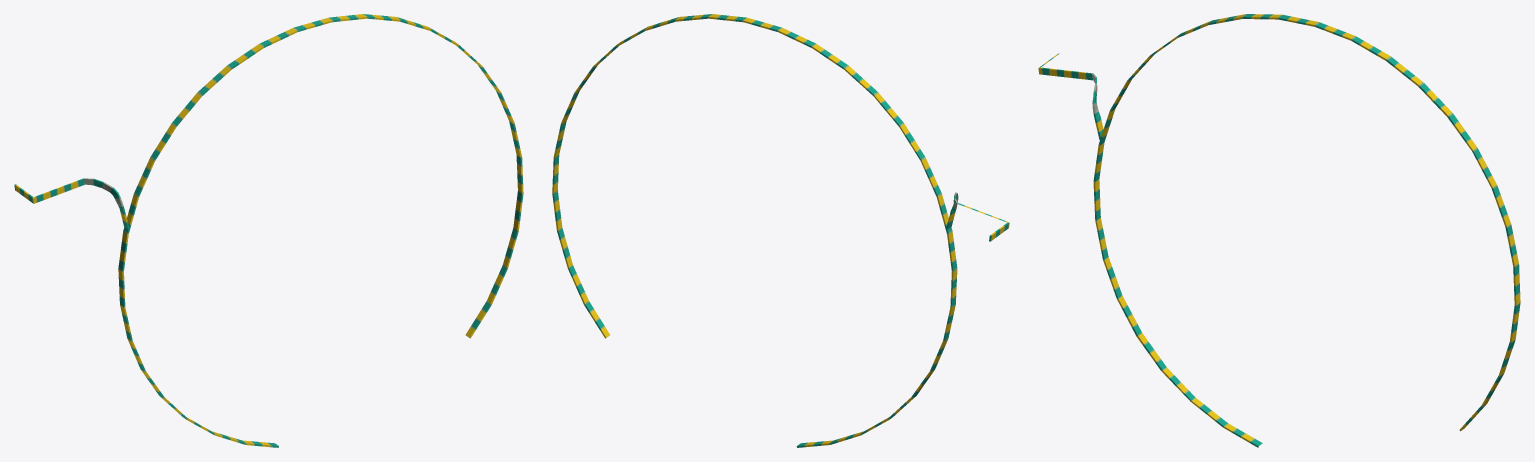
Rendered from jx001-geode.glb.
The picture shows the model from 3 angles, left to right: view 1: azimuth 30°, elevation 25°; view 2: azimuth 150°, elevation 25°; view 3: azimuth 330°, elevation 25°; orthographic projection. The views are drawn at different scales.
Visible parts, largest first — view 1: Node; view 2: Node; view 3: Node.
Boxes of the visible parts, x1=… form: Node: x1=14, y1=14, x2=523, y2=447; Node: x1=552, y1=14, x2=1009, y2=447; Node: x1=1038, y1=14, x2=1520, y2=447.
Bounding box in the file's own units: 3.08 × 2.58 × 0.42.
Materials: 3 (3 with a texture image).
